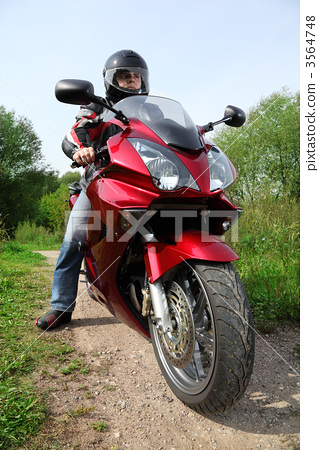helmet: (102, 51, 152, 105)
